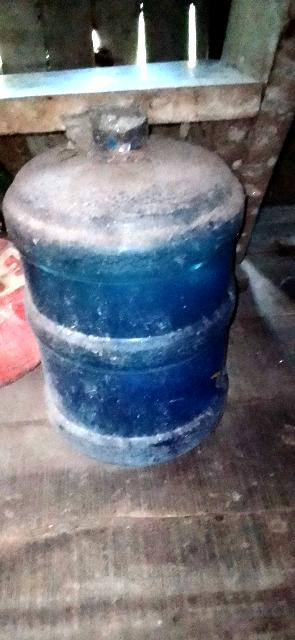bottle: (19, 125, 256, 457)
